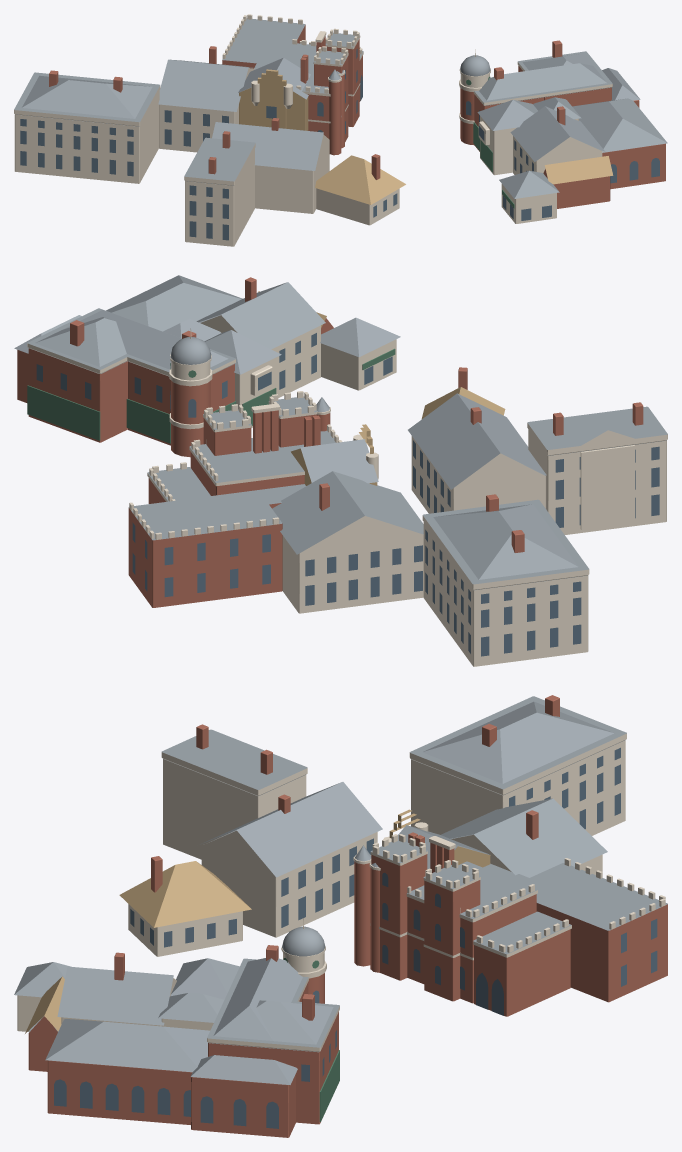
Rendered from wdw-epcot-uk.glb.
The picture shows the model from 3 angles, top to bottom: view 1: azimuth 30°, elevation 25°; view 2: azimuth 150°, elevation 25°; view 3: azimuth 270°, elevation 25°; orthographic projection. The views are drawn at different scales.
Visible parts, largest first — view 1: EPCOT United Kingdom pavilion; view 2: EPCOT United Kingdom pavilion; view 3: EPCOT United Kingdom pavilion.
Boxes of the visible parts, bbox=[...] form: EPCOT United Kingdom pavilion: bbox=[14, 14, 667, 246]; EPCOT United Kingdom pavilion: bbox=[14, 275, 667, 666]; EPCOT United Kingdom pavilion: bbox=[14, 695, 667, 1137].
Size of the model in its own units: 90.72 by 15.6 by 70.57.
